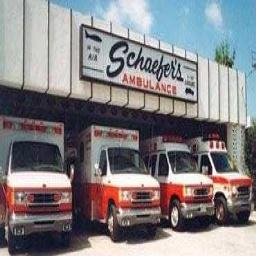Ambulance: (73, 125, 160, 240), (0, 116, 71, 252), (141, 135, 213, 230), (188, 134, 251, 224)
